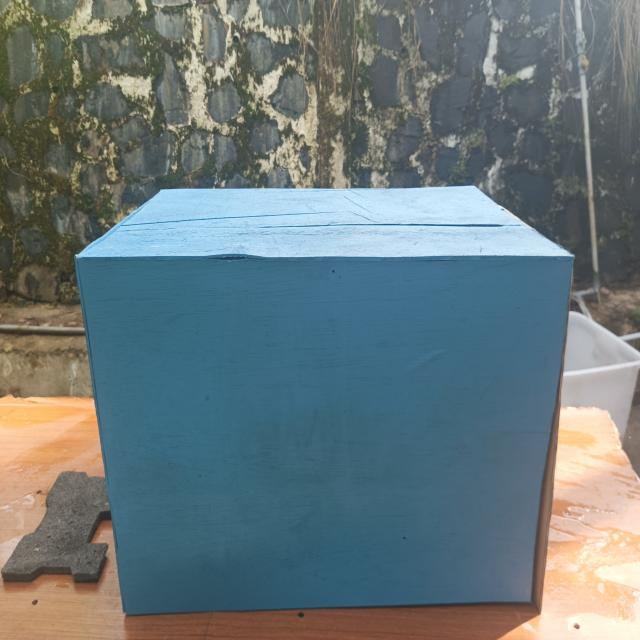blue_box: (70, 174, 580, 613)
